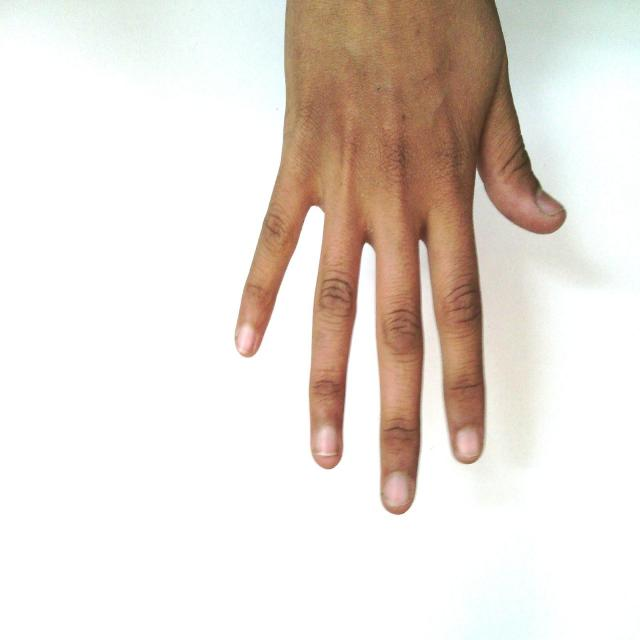others: (209, 0, 576, 535)
